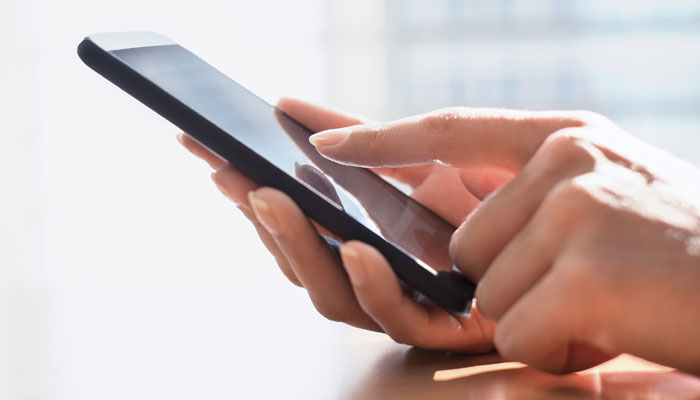phone: (64, 31, 486, 312)
